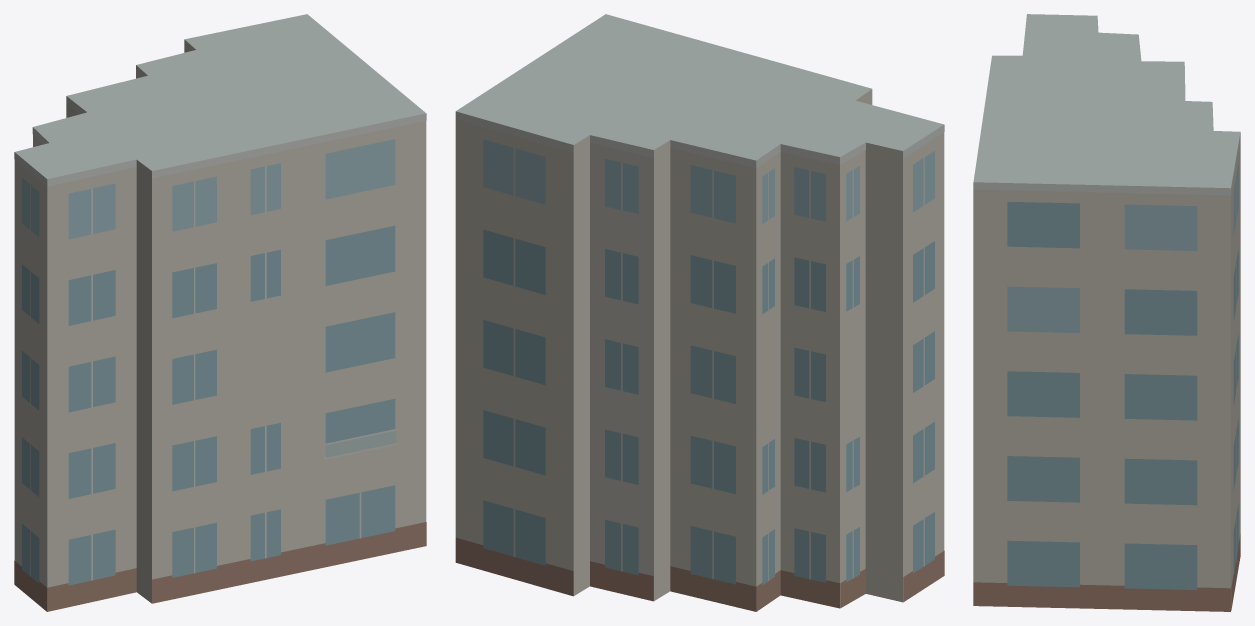
The model's file is survey-upis-32802284.glb.
The picture shows the model from 3 angles, left to right: view 1: azimuth 30°, elevation 25°; view 2: azimuth 150°, elevation 25°; view 3: azimuth 270°, elevation 25°; orthographic projection. The views are drawn at different scales.
Parts seen in each view (by area): view 1: survey-upis-32802284.tmp; view 2: survey-upis-32802284.tmp; view 3: survey-upis-32802284.tmp.
Part boxes in pixels (x1,y1,x2,y2): survey-upis-32802284.tmp: [14, 14, 426, 611]; survey-upis-32802284.tmp: [455, 14, 944, 611]; survey-upis-32802284.tmp: [973, 14, 1240, 611].
Size of the model in its own units: 12.61 by 14.3 by 8.18.
